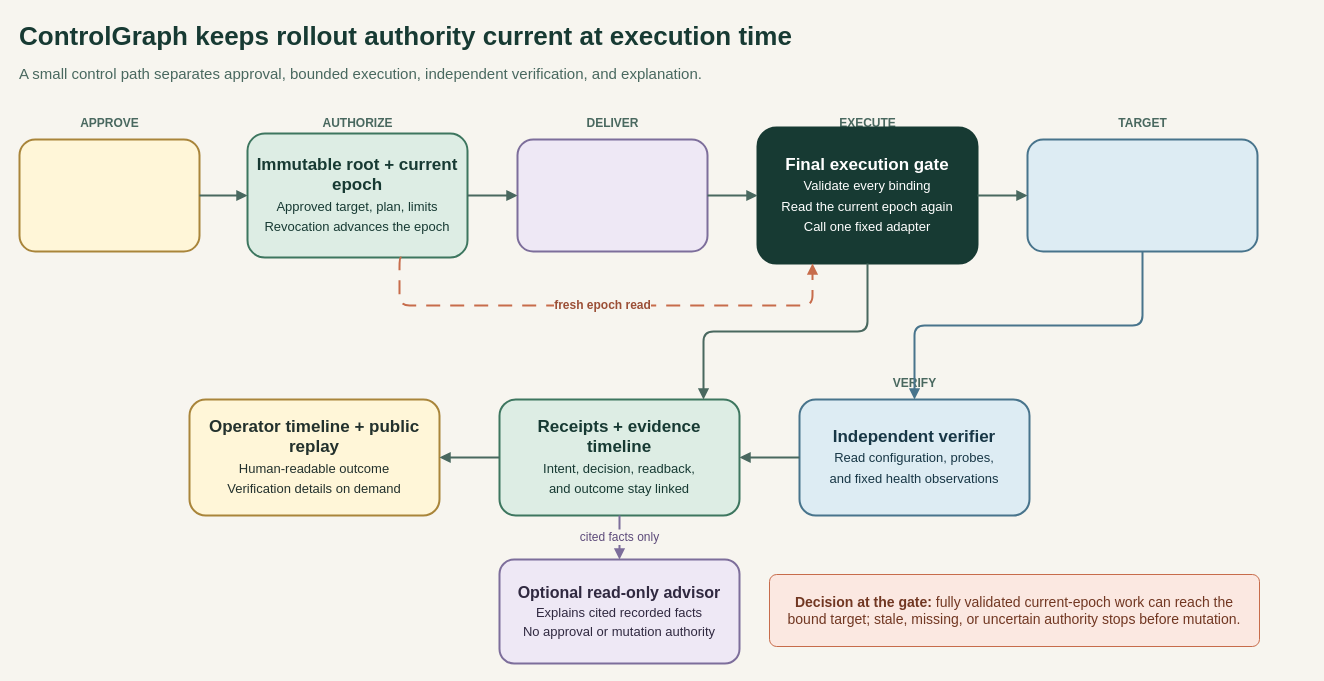
This 1324x681 diagram has some shape labels left out. Each missing label, with the box of its shape:
Addressed work Signed, narrow capability Fixed task destination: (516, 138, 708, 252)
Bound Cloud Run target Approved revisions Exact traffic operation: (1026, 138, 1258, 252)
Operator approval One rollout root One explicit intent: (18, 138, 200, 252)
